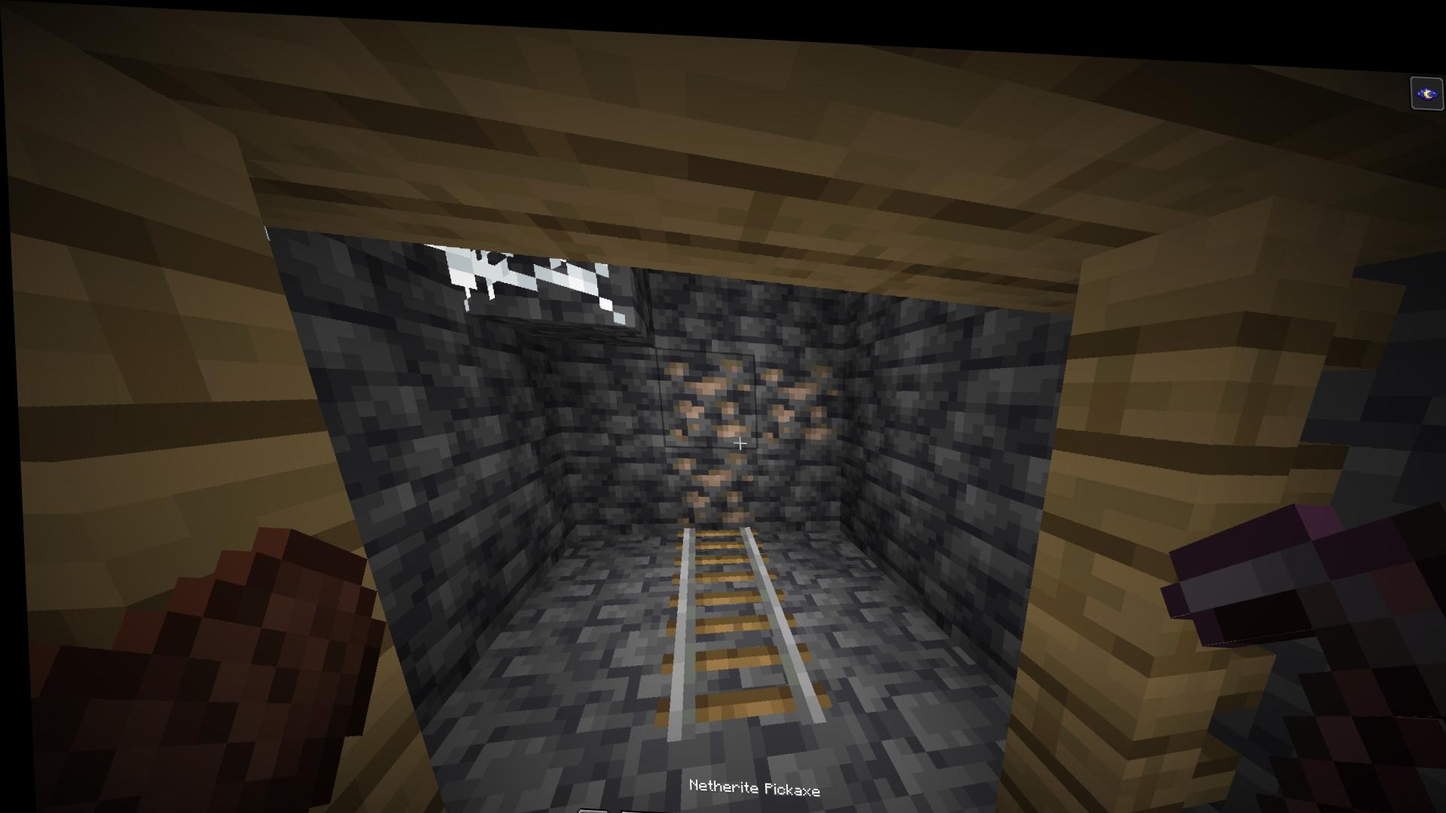iron ore: (654, 340, 756, 444), (754, 344, 852, 443), (663, 437, 754, 526)
